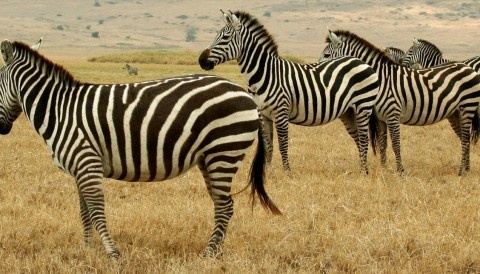zebra: (0, 36, 271, 263), (195, 8, 380, 176), (317, 27, 478, 173)
